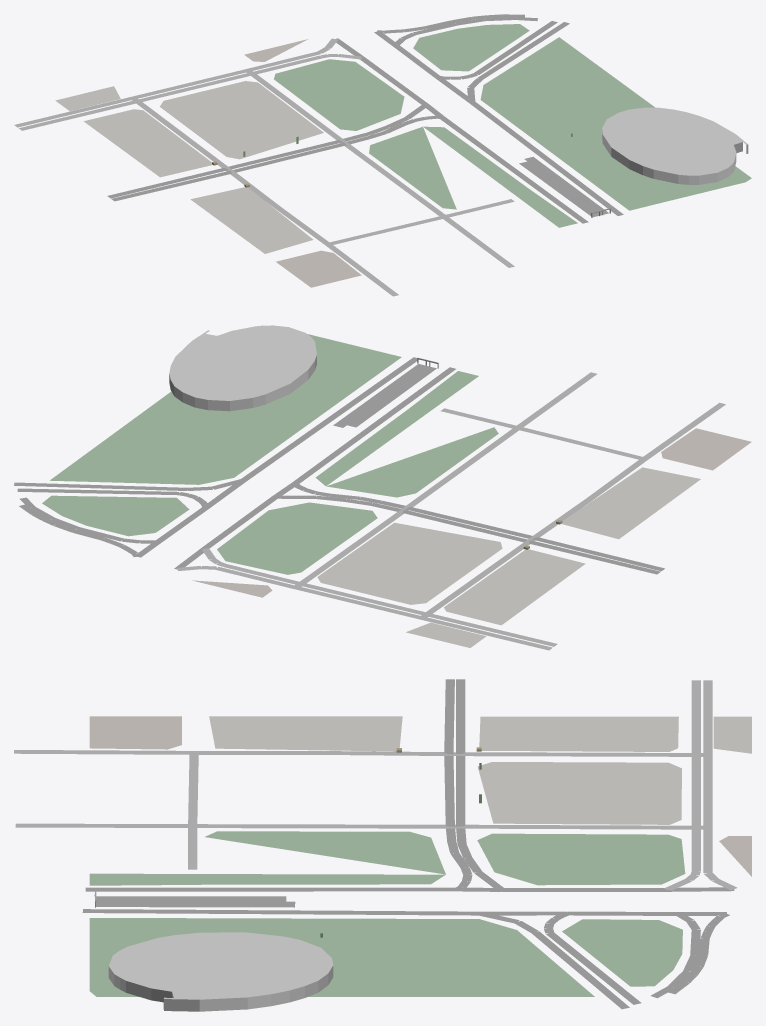
3 views of the same model, one above another, from view 1: azimuth 30°, elevation 25°; view 2: azimuth 150°, elevation 25°; view 3: azimuth 270°, elevation 25° (orthographic). The views are drawn at different scales.
Size of the model in its own units: 593 by 10.22 by 557.
